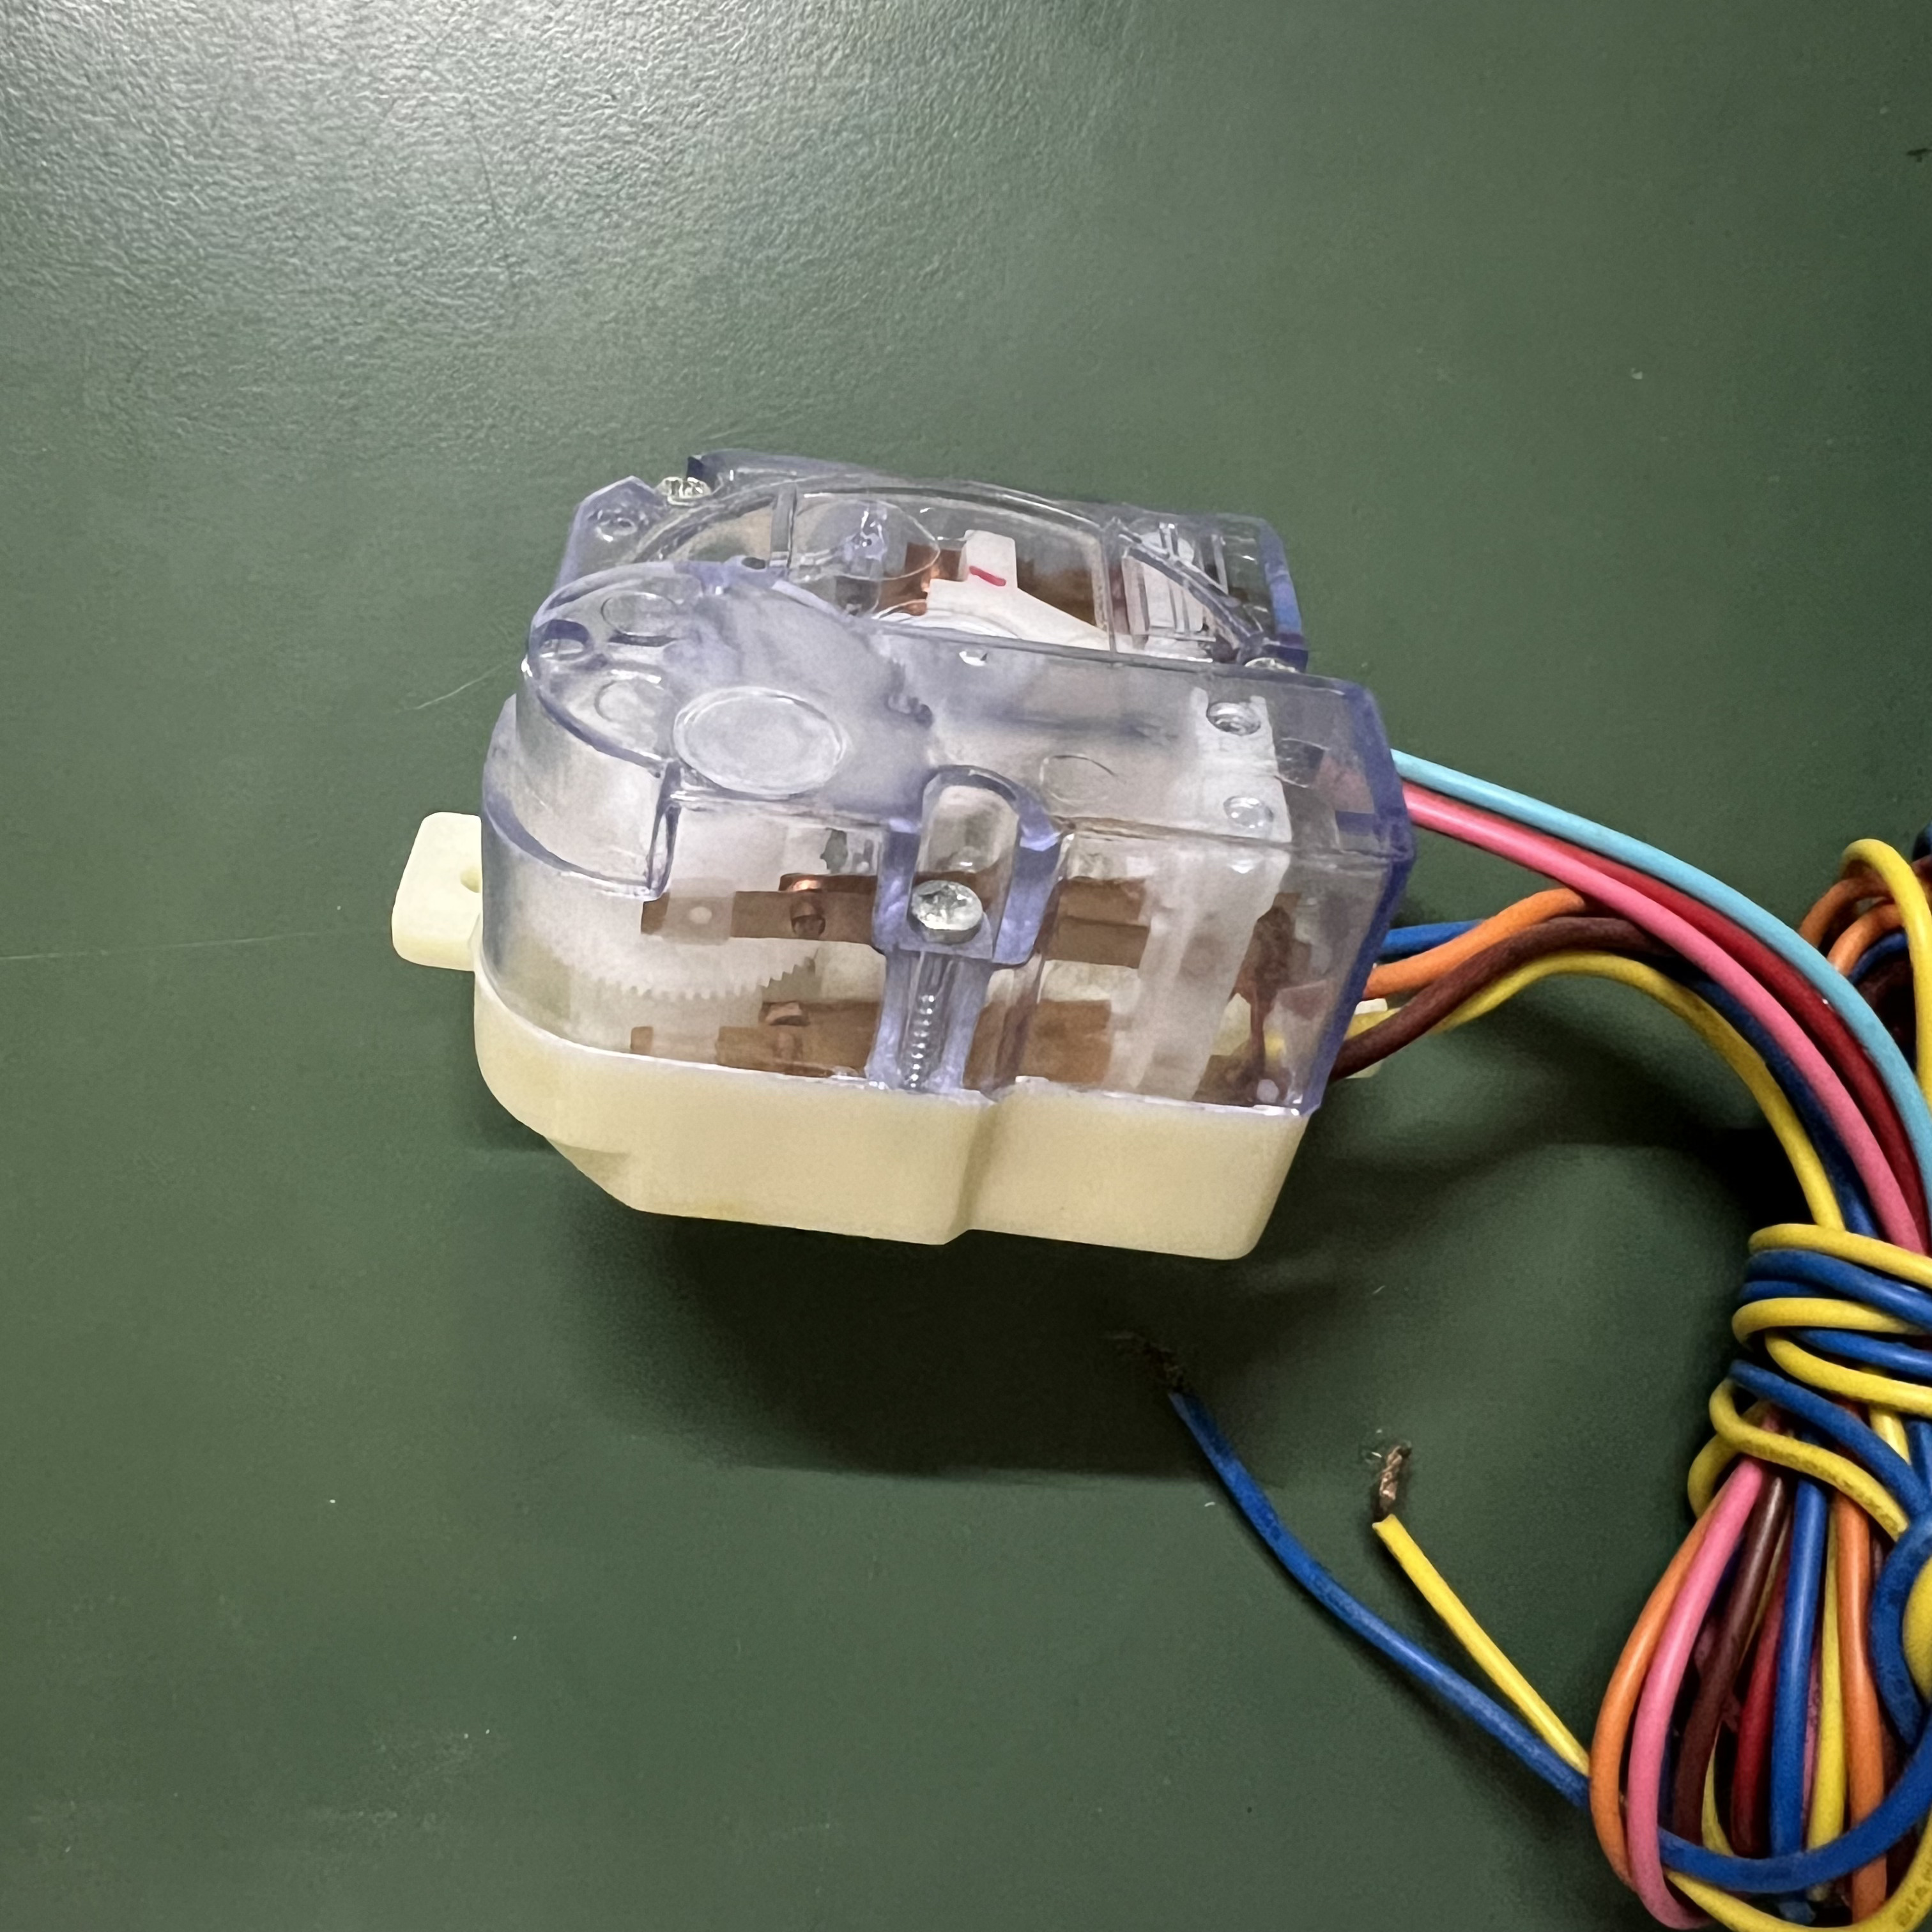square_timer: (333, 428, 1384, 1299)
